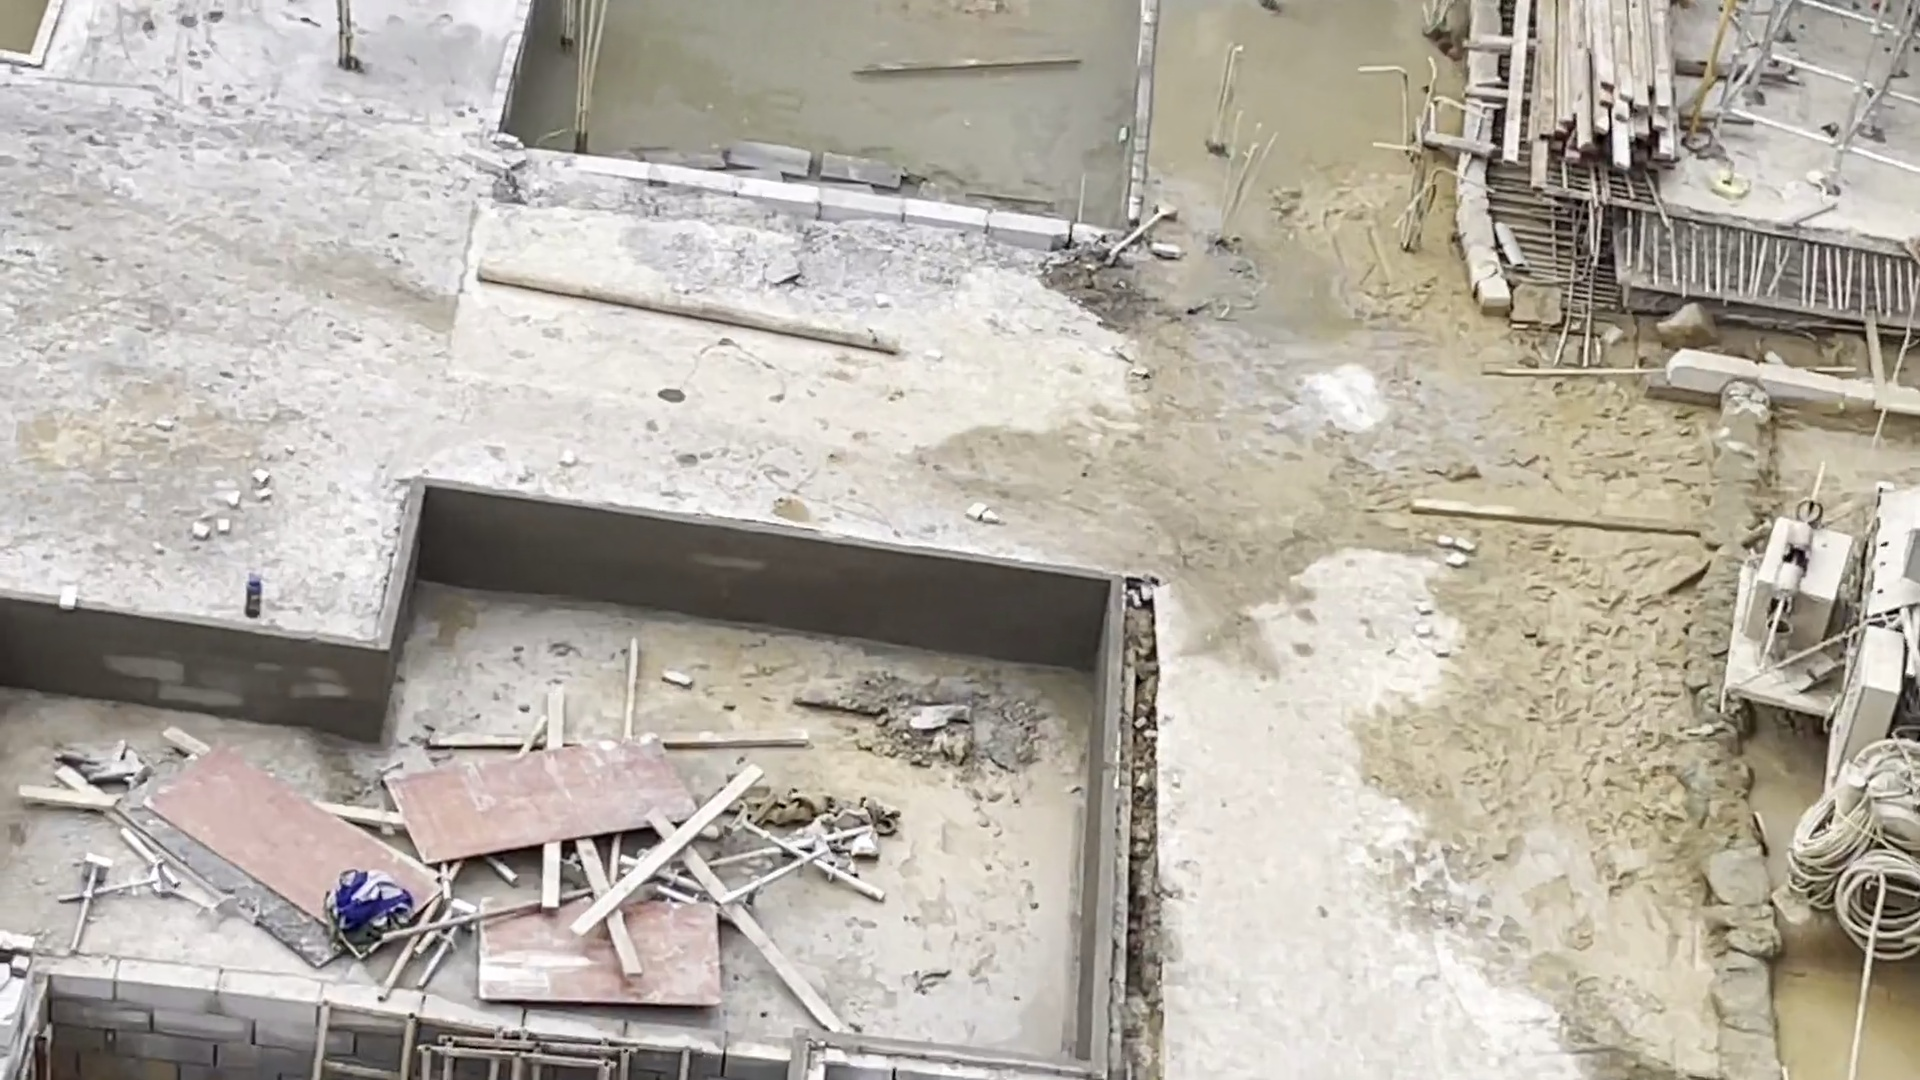wood: (1506, 1, 1685, 193)
